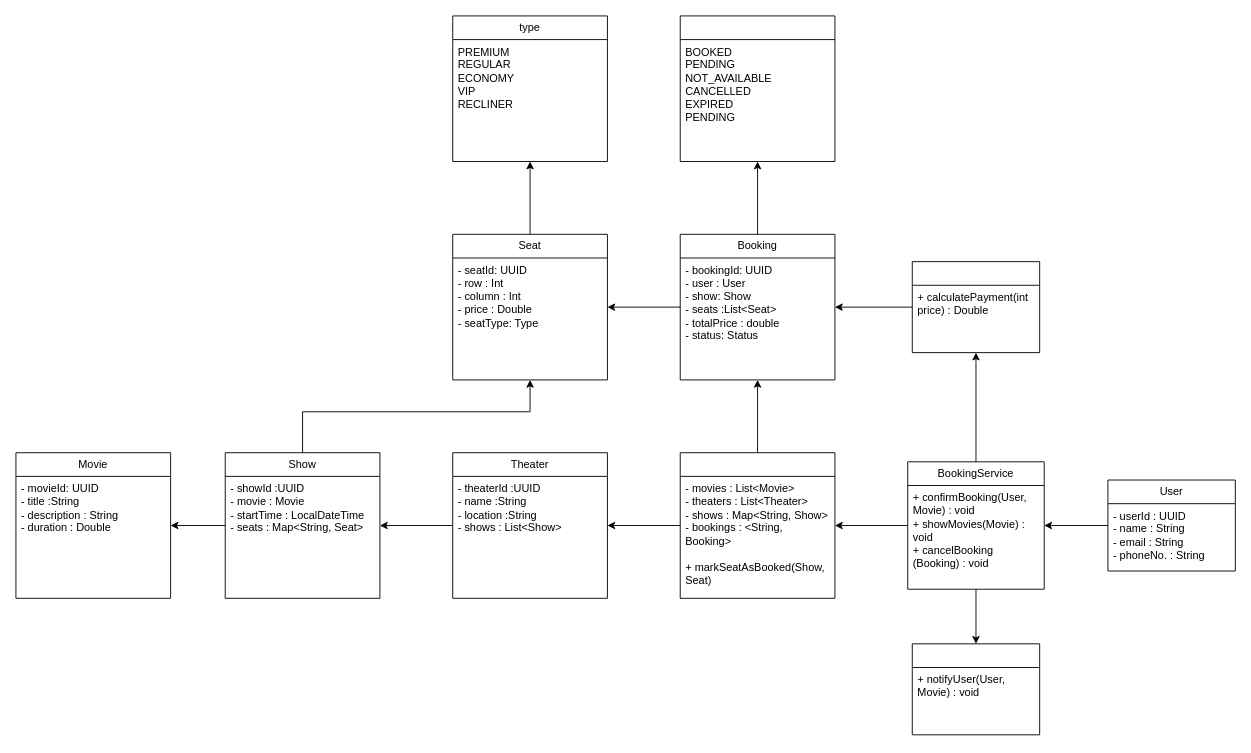
The diagram is 1251 pixels wide and 753 high, and some of its shapes have lost their labels. Each missing label, with the box of its shape:
MovieTicketBookingService: (679, 452, 835, 598)
NotificationService: (911, 643, 1040, 735)
PaymentService: (911, 261, 1040, 353)
Status: (679, 15, 835, 162)
